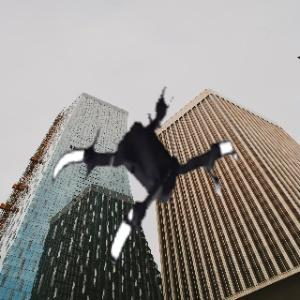drone: (49, 66, 255, 272)
